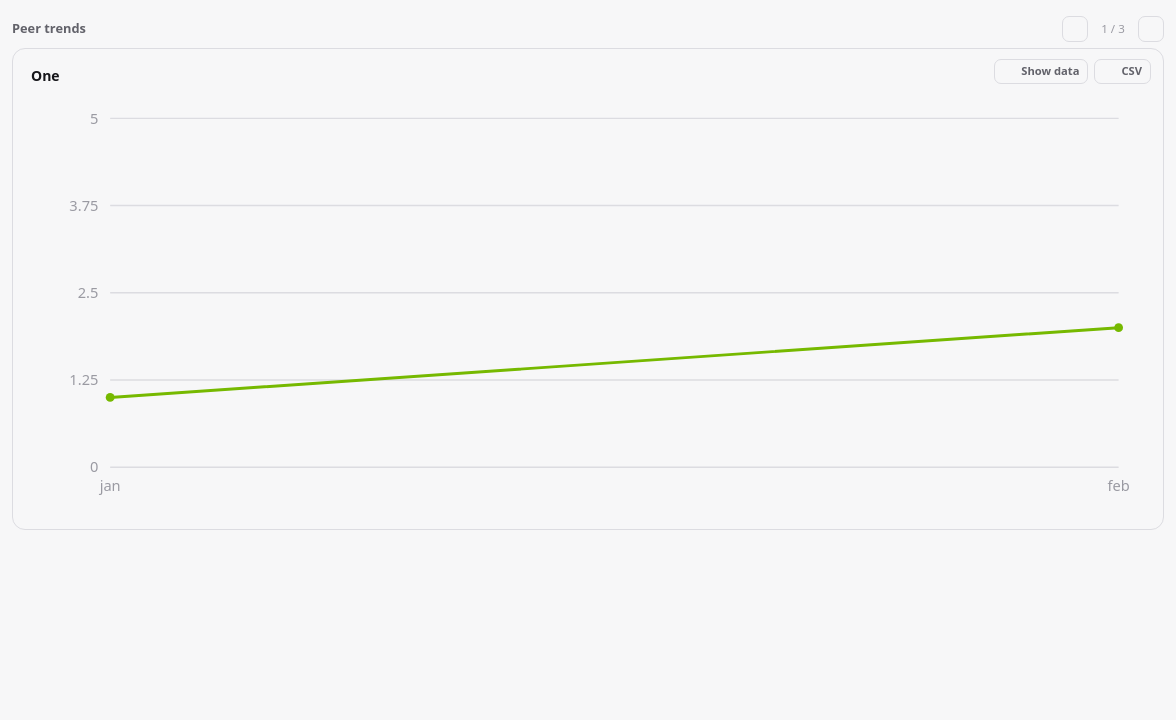
Test: ResultChartCarousel › pages forward and wraps around
Step 1. Click the button named "Next chart" → click(1151, 29), box [1138,16,1164,42]
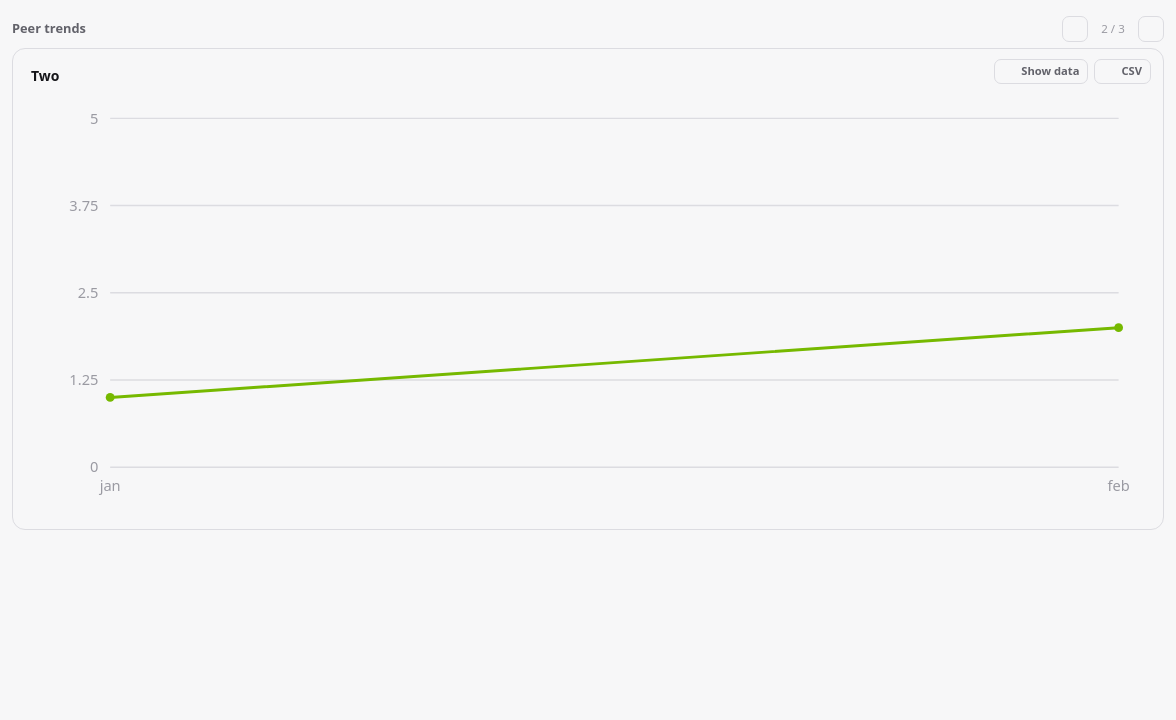
Check: the text "2 / 3" is shown, box [1101,21,1125,36]
Step 2. Click the button named "Previous chart" → click(1075, 29), box [1062,16,1088,42]
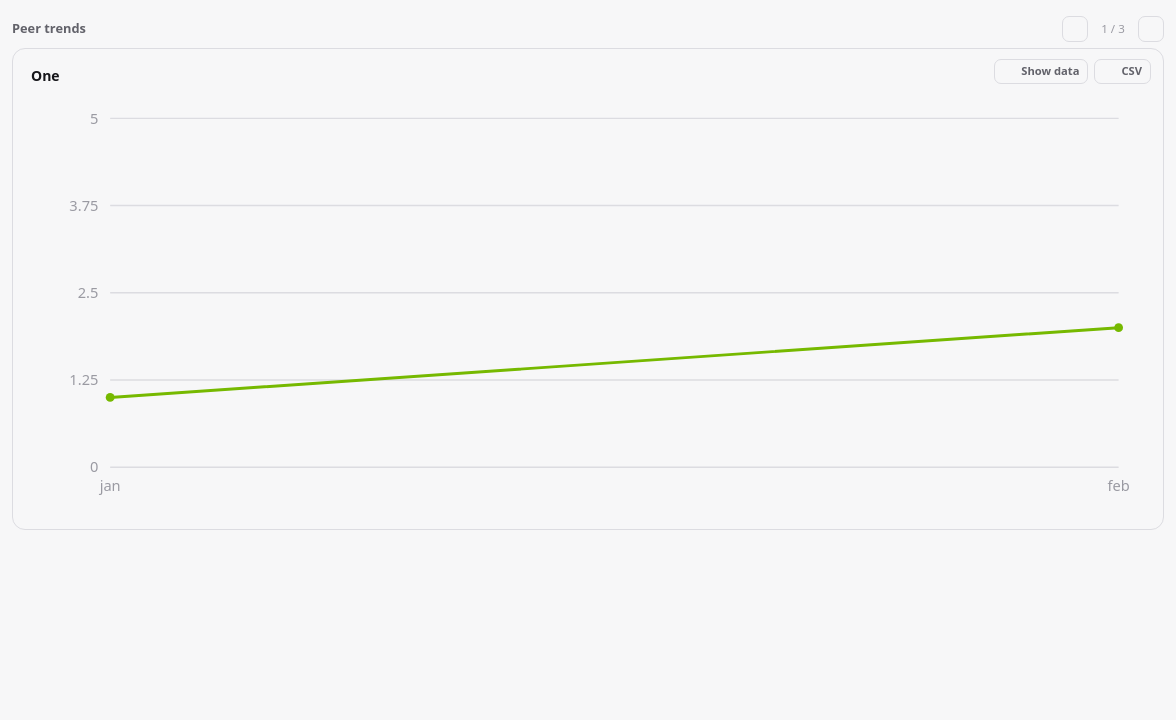
Step 3. Click the button named "Previous chart" → click(1075, 29), box [1062,16,1088,42]
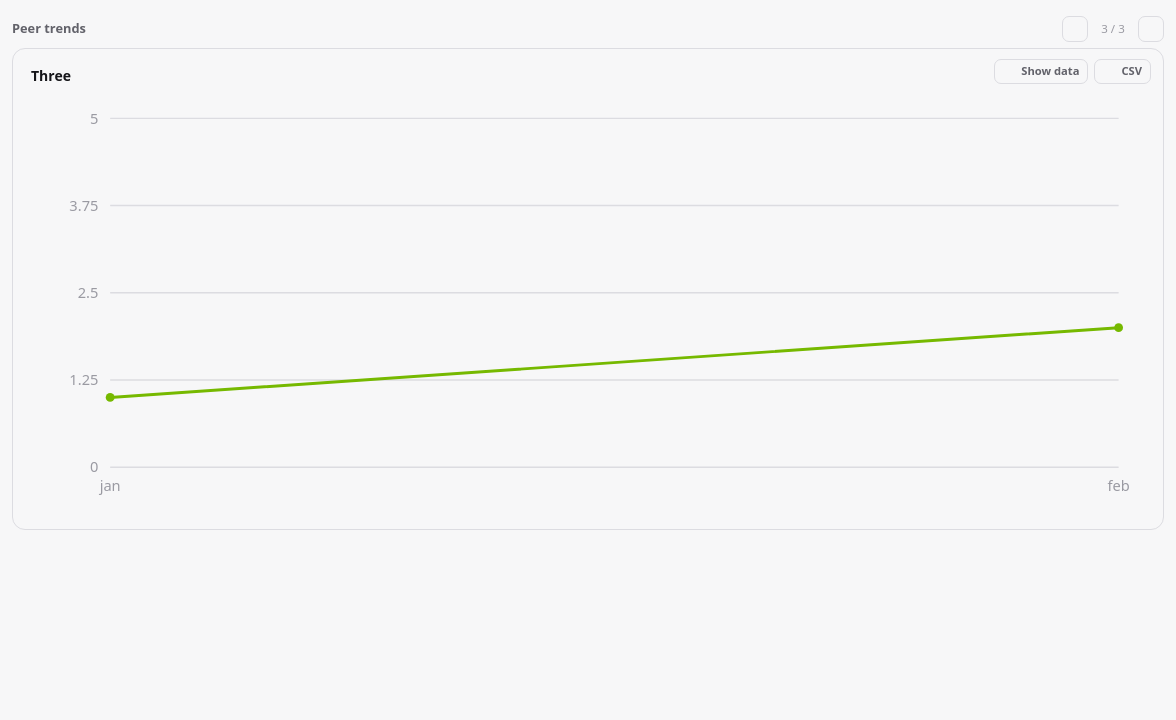
Check: the text "3 / 3" is shown, box [1101,21,1125,36]
Check: the text "Three" is shown, box [31,65,71,86]
